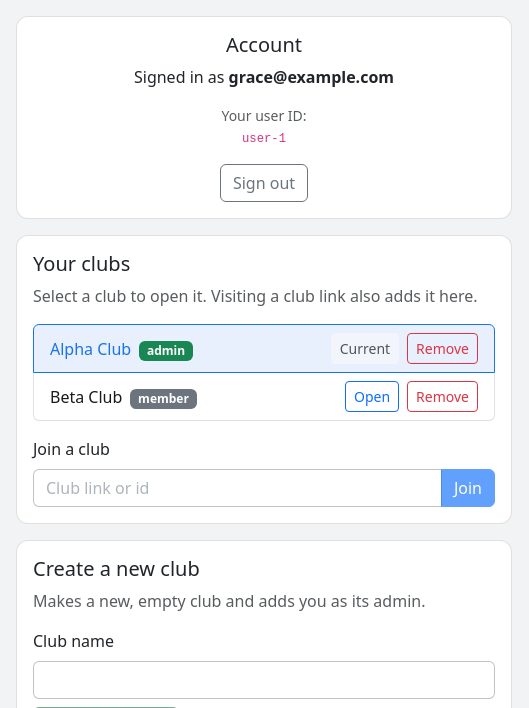
Scenario: AuthPage › lets the user switch which saved club is current
Check: the text "Signed in as grace@example.com" is shown, box [134,66,394,88]
Check: the text "Beta Club" is shown, box [50,386,122,408]
Click the button "Open": (372, 397) [345,381,399,412]
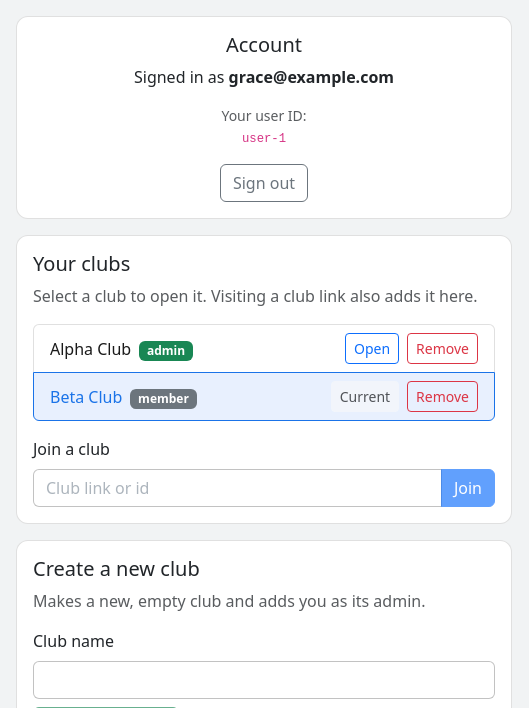
Check: the button "Current" is disabled, box [331,381,399,412]
